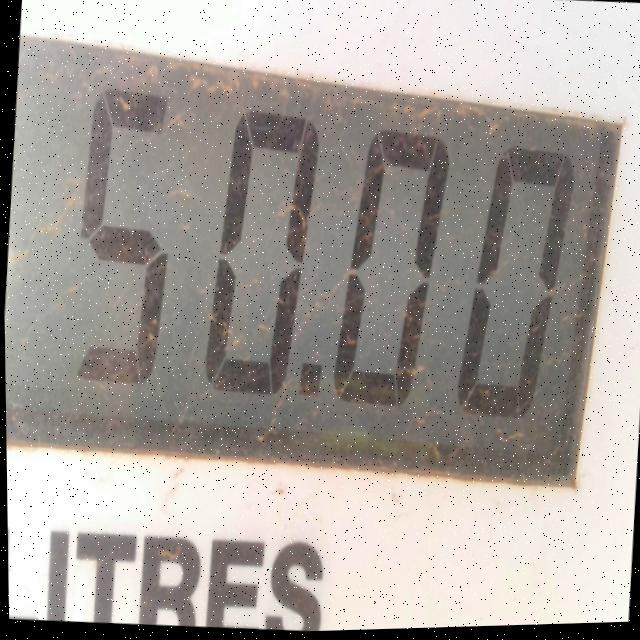.: (287, 344, 333, 413)
0: (323, 113, 459, 422), (186, 106, 324, 407), (445, 140, 586, 426)
5: (54, 73, 190, 391)
